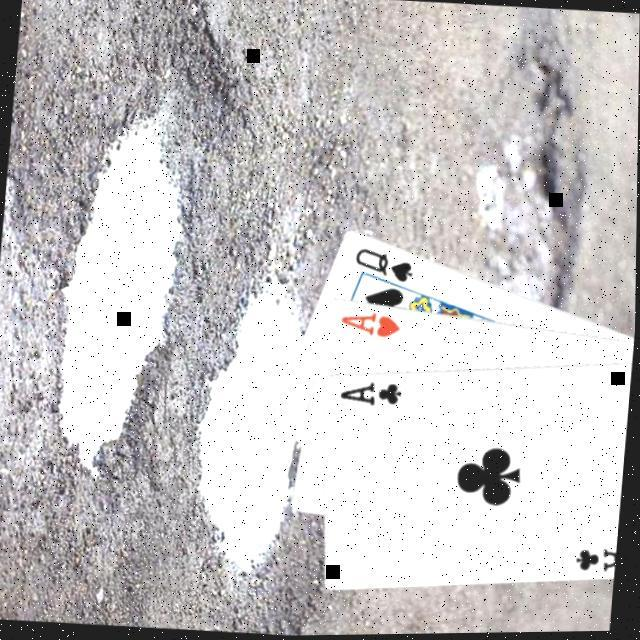AC: (338, 376, 406, 412), (573, 544, 617, 578)
AH: (338, 307, 406, 343)
QS: (352, 244, 420, 288)
